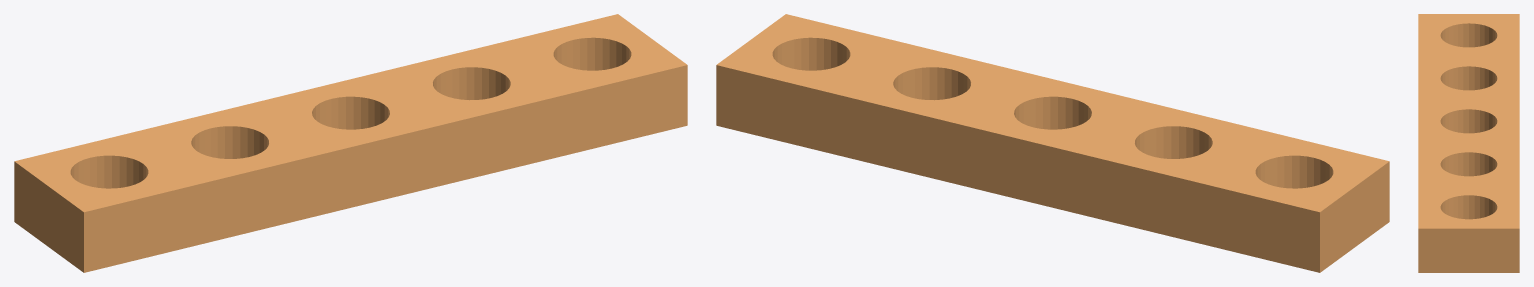
The model's file is beam-su05.glb.
3 renders of one model, left to right at view 1: azimuth 30°, elevation 25°; view 2: azimuth 150°, elevation 25°; view 3: azimuth 270°, elevation 25°, orthographic. The views are drawn at different scales.
Visible parts, largest first — view 1: beam-su05; view 2: beam-su05; view 3: beam-su05.
Part boxes in pixels (x1,y1,x2,y2): beam-su05: (14, 14, 687, 272); beam-su05: (716, 14, 1389, 272); beam-su05: (1418, 14, 1519, 272).
Size of the model in its own units: 0.0625 by 0.006 by 0.0125.
